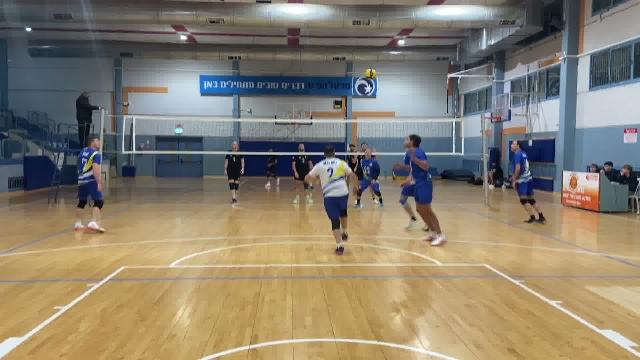ball: (365, 67, 378, 82)
